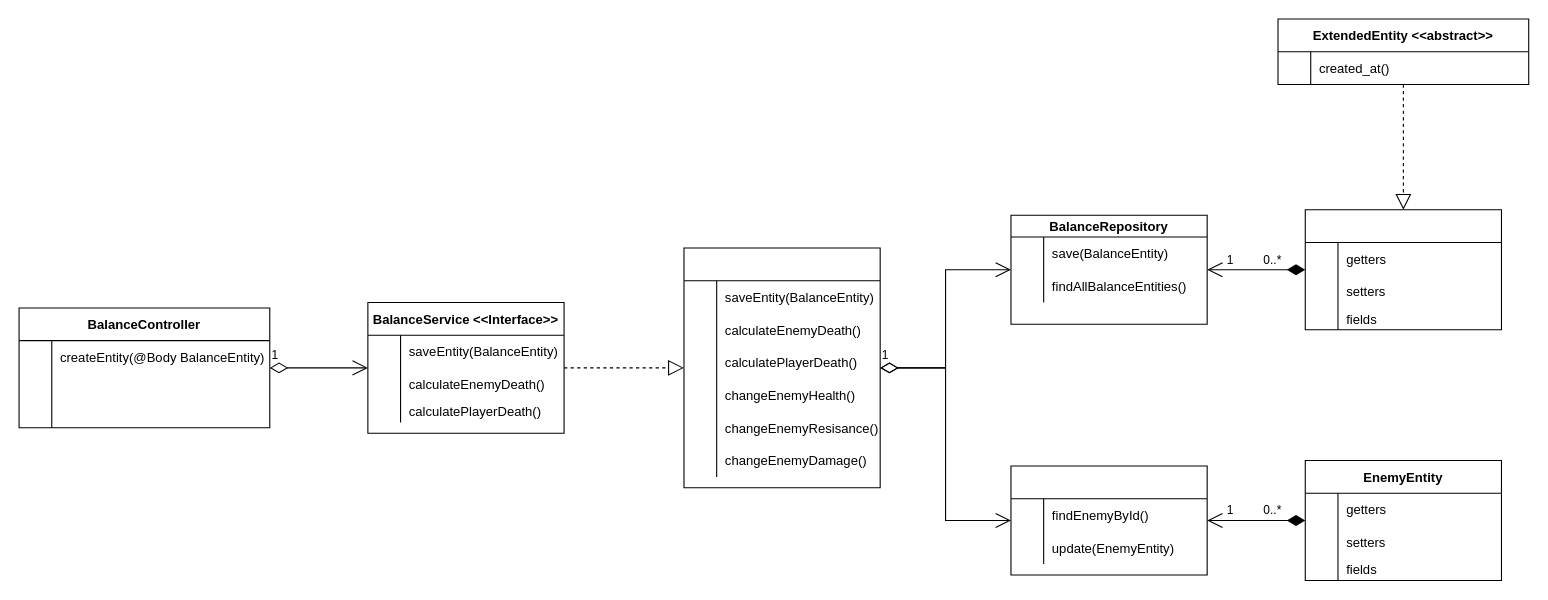
This 1548x600 diagram has some shape labels left out. The box of each missing label's shape, as (x1, y1, x2, y2) in pixels:
BalanceEntity: (1304, 209, 1501, 330)
BalanceServiceImpl: (683, 247, 880, 488)
EntityRepository: (1010, 465, 1207, 575)
